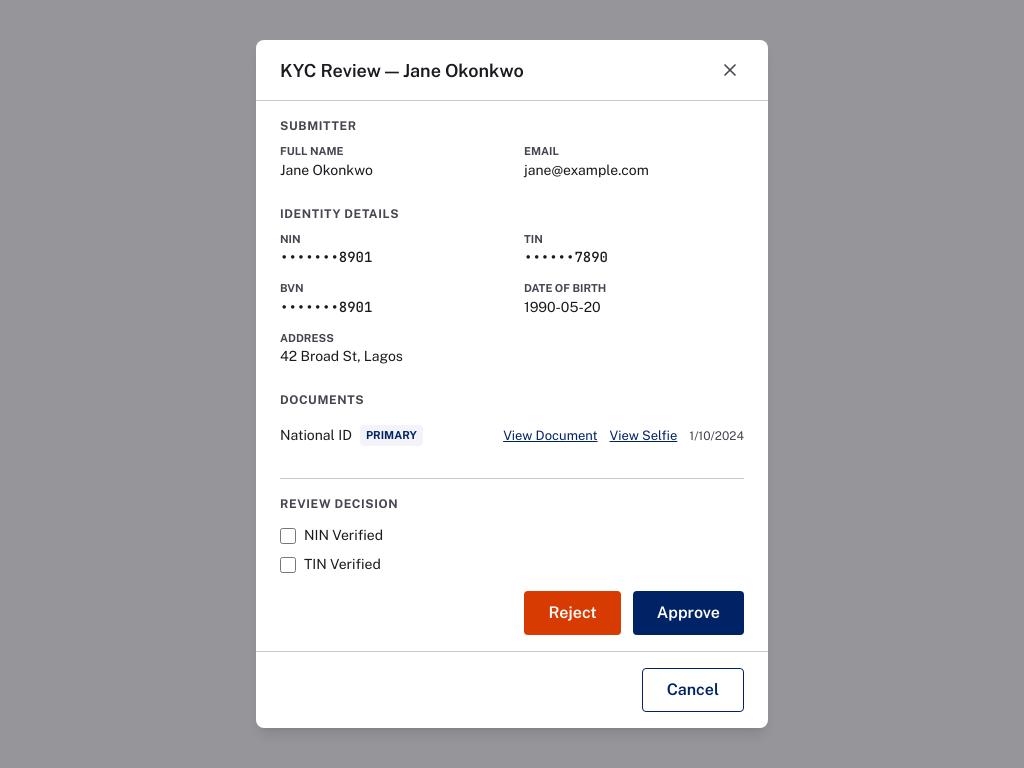
Scenario: AC-16: 409 backend response → frontend shows "already reviewed" error message › shows "already been reviewed" message when reject returns 409
The image size is (1024, 768).
Click the button "Reject": (573, 613) left=524, top=591, right=621, bottom=635
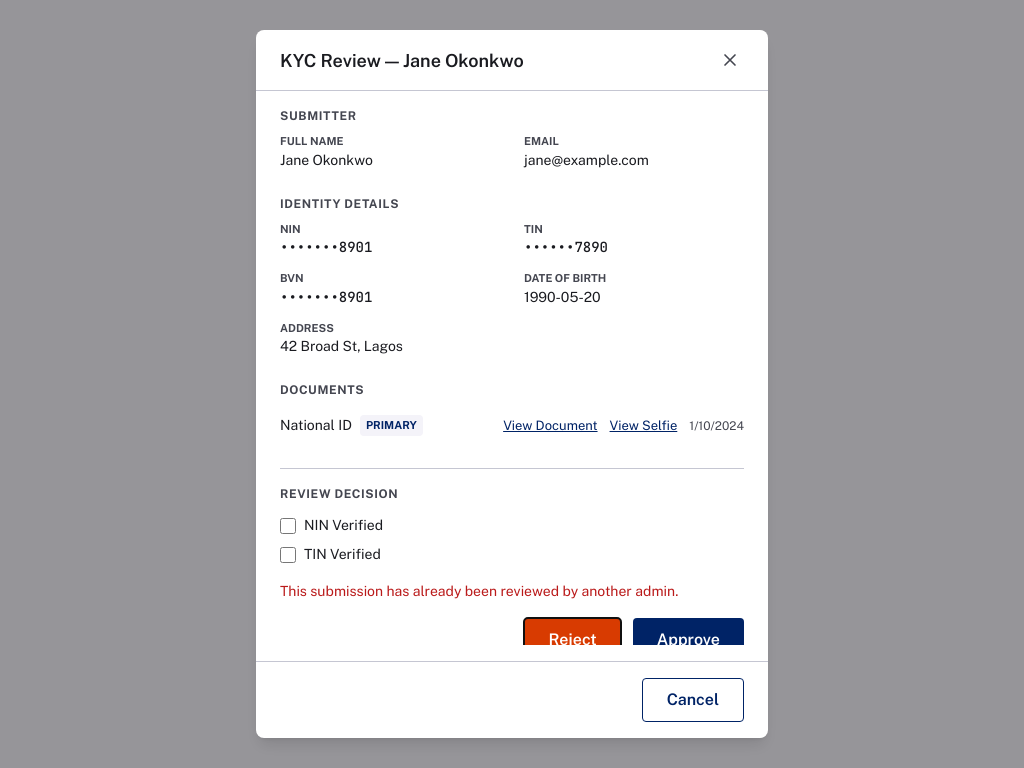
Check: the text "This submission has already been reviewed by another admin." is shown, box left=280, top=581, right=744, bottom=602
